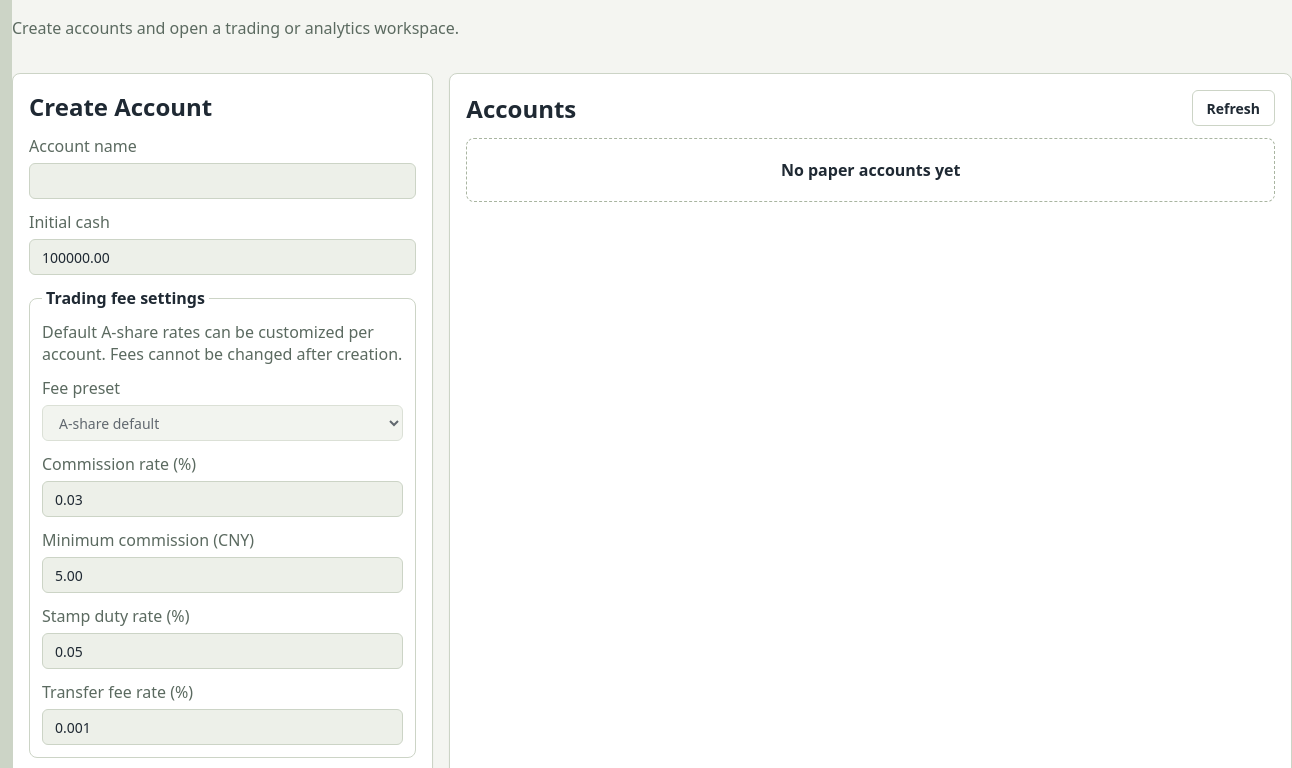
Test case: AccountsPage › rejects negative fee settings before submitting
Step 1. Type "demo" into the field labelled "Account name" → coordinates (223, 181), box [29, 163, 416, 199]
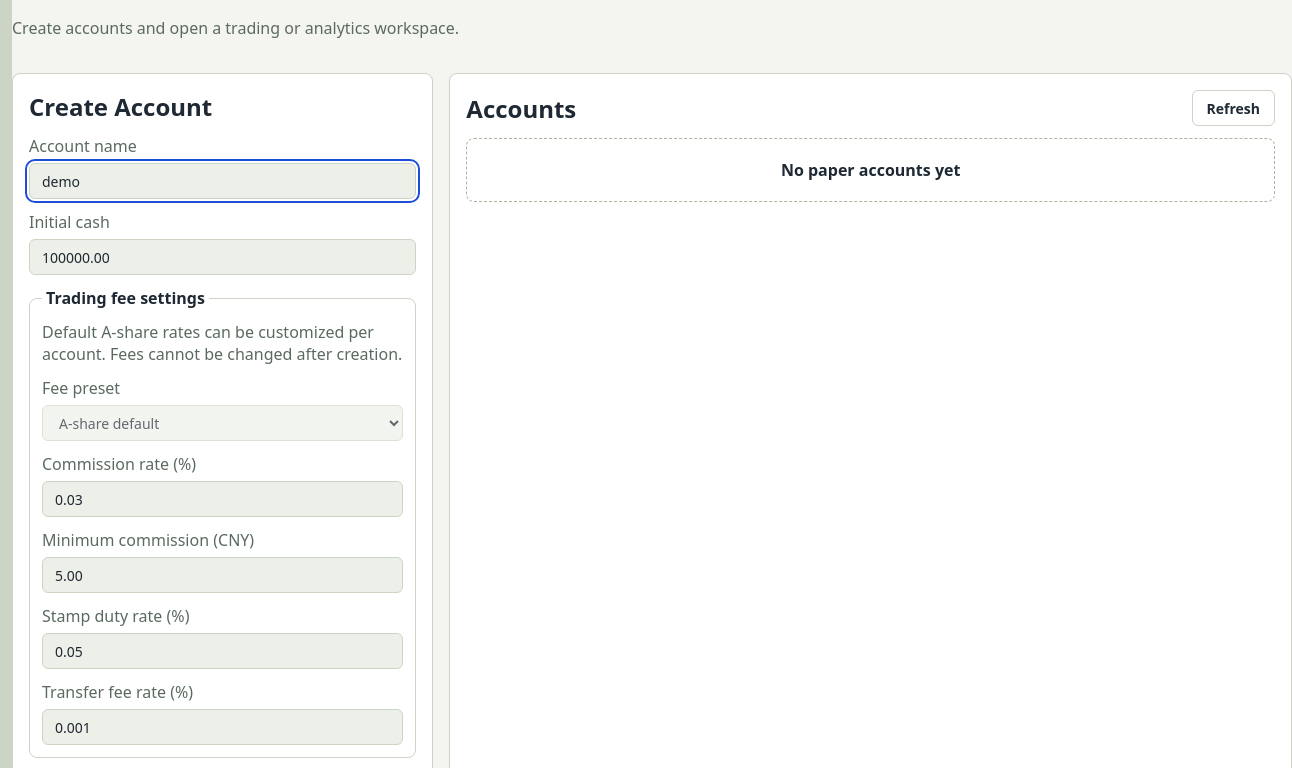
Step 2. Type "-0.01" into the field labelled "Commission rate (%)" → coordinates (223, 499), box [42, 481, 403, 517]
(page scrolled)
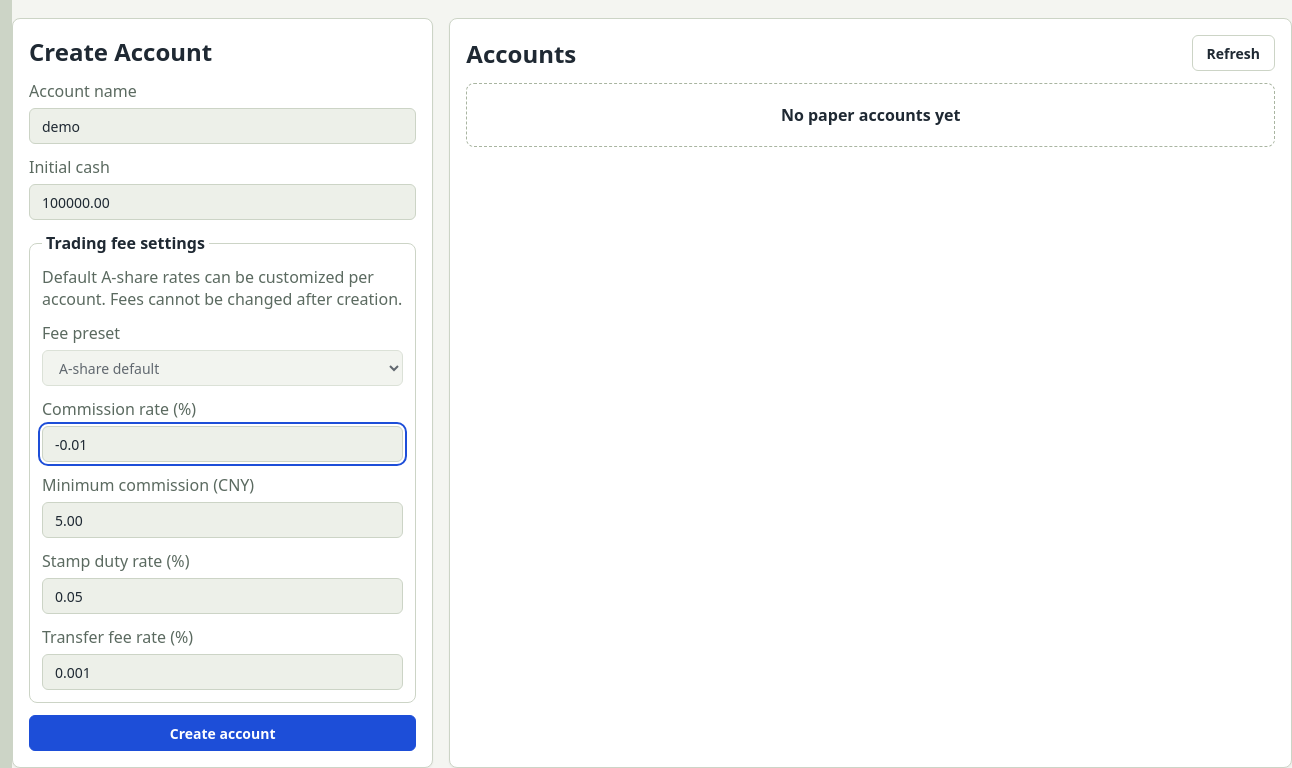
Step 3. Click the button "Create account" → coordinates (223, 733), box [29, 715, 416, 751]
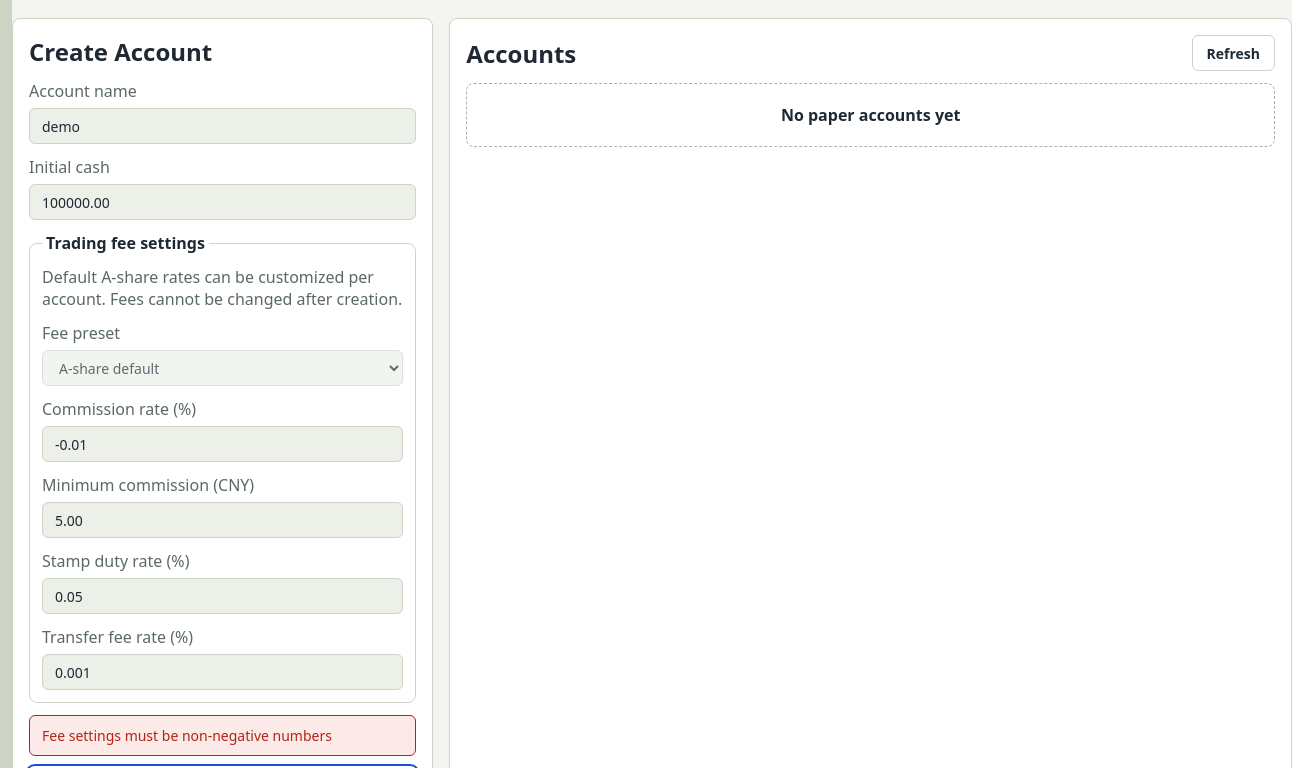
Expected: the message reads "Fee settings must be non-negative numbers", [42, 726, 332, 745]
